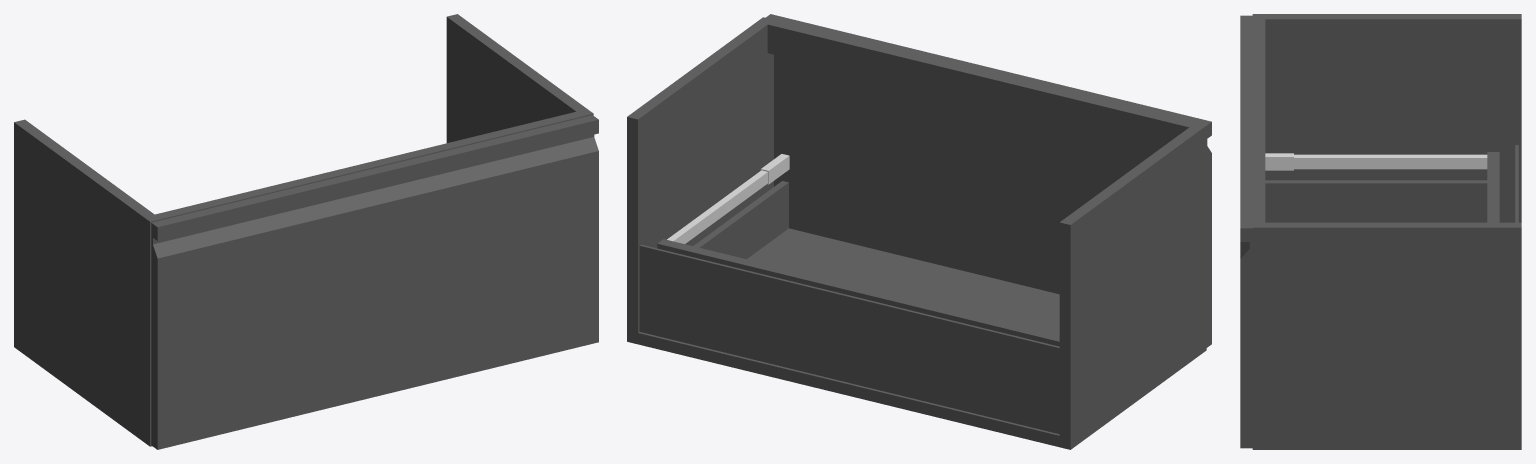
File: AEC_45676.glb
The picture shows the model from 3 angles, left to right: view 1: azimuth 30°, elevation 25°; view 2: azimuth 150°, elevation 25°; view 3: azimuth 270°, elevation 25°; orthographic projection.
Visible parts, largest first — view 1: 0; view 2: 0; view 3: 0.
Part boxes in pixels (x1,y1,x2,y2): 0: (14, 14, 598, 449); 0: (627, 14, 1211, 449); 0: (1240, 14, 1521, 449).
Bounding box in the file's own units: 0.809 × 0.392 × 0.45.
1 material, 1 textured.
